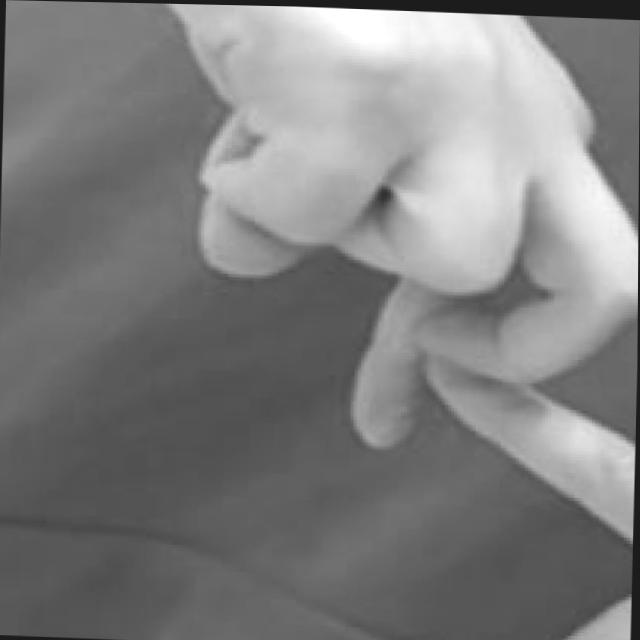R: (114, 3, 640, 640)
